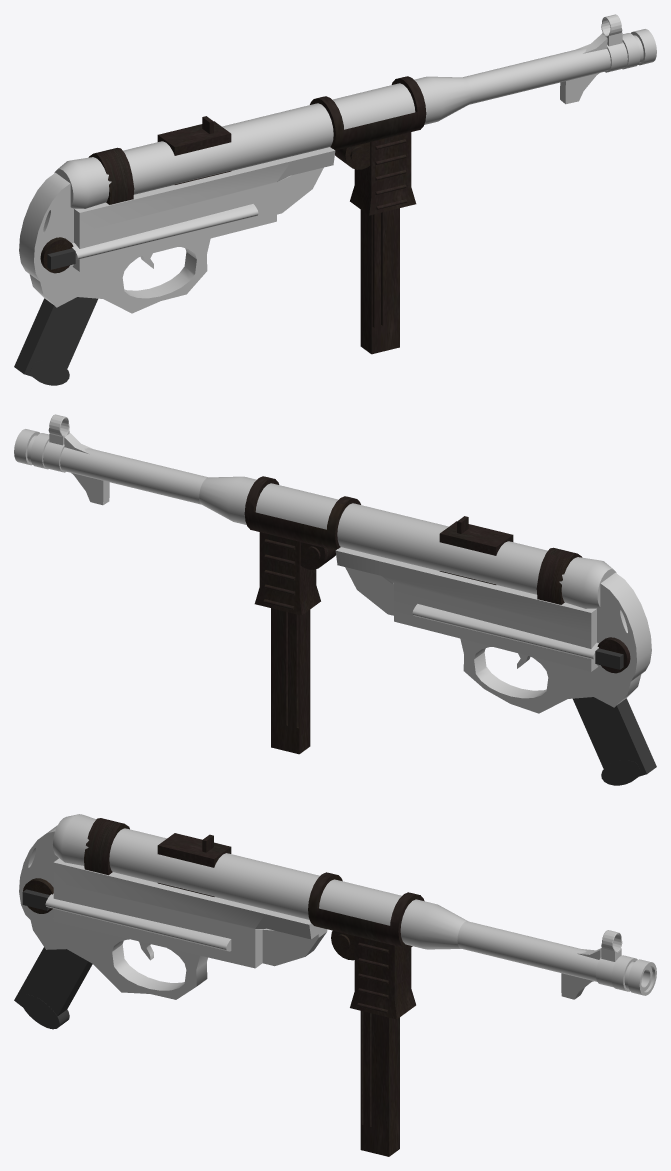
Rendered from gun2.fbx.
The picture shows the model from 3 angles, top to bottom: view 1: azimuth 30°, elevation 25°; view 2: azimuth 150°, elevation 25°; view 3: azimuth 330°, elevation 25°; orthographic projection.
Parts seen in each view (by area): view 1: pCylinder39; view 2: pCylinder39; view 3: pCylinder39.
Part boxes in pixels (x1,y1,x2,y2): pCylinder39: (14,14,656,385); pCylinder39: (14,414,656,785); pCylinder39: (14,814,656,1156).
Bounding box in the file's own units: 11.16 × 4.65 × 0.9949.
